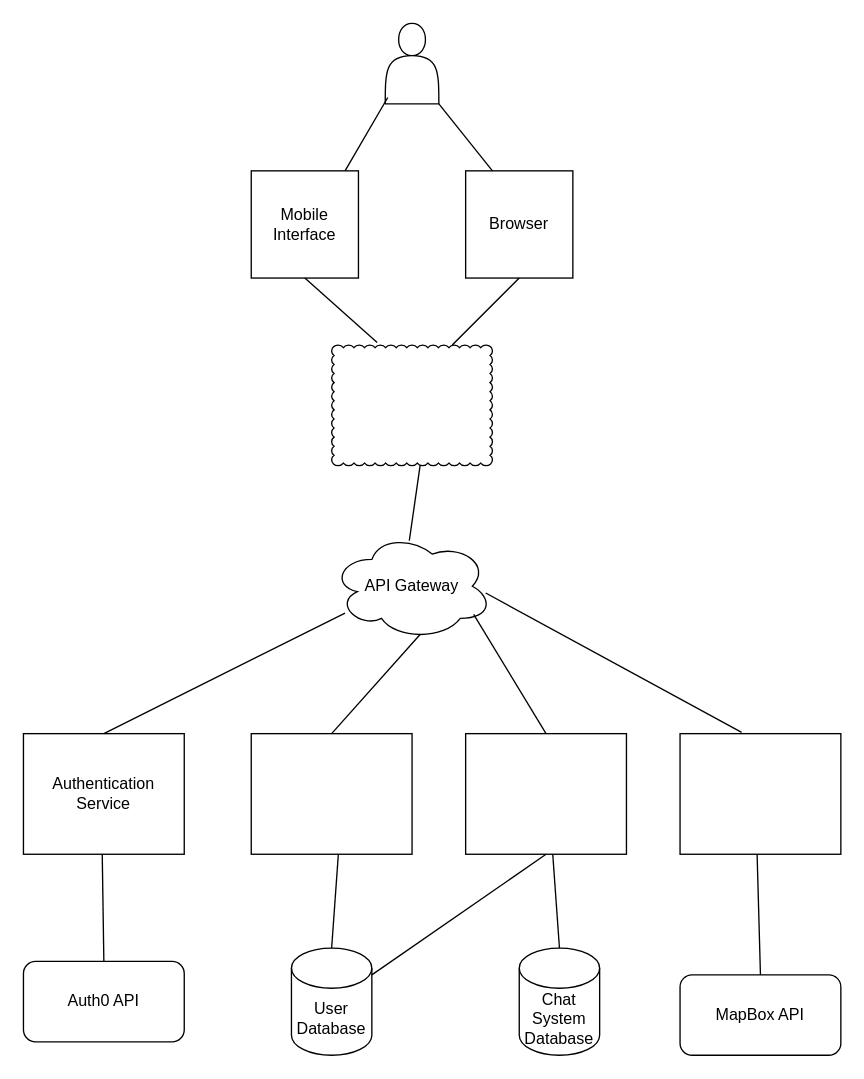
The diagram is 864 pixels wide and 1079 high, and some of its shapes have lost their labels. The shapes that lost their labels are listed below. From the top down, each one's box as (x1, y1, x2, y2) in pixels, then its label:
(330, 344, 492, 466): Frontend Interface
(250, 732, 412, 854): User Account Service
(464, 732, 626, 854): Chat System Service
(679, 732, 841, 854): Map Service
